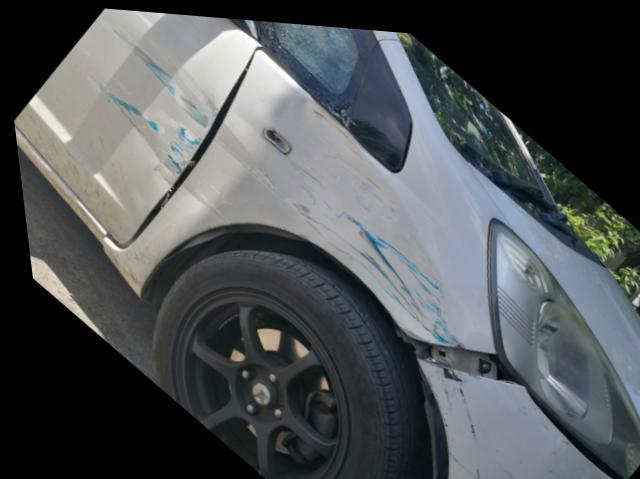dent: (179, 90, 444, 337)
dislocated part: (397, 329, 615, 479)
glass shatter: (254, 16, 377, 122)
scratch: (73, 9, 217, 184), (418, 356, 538, 479)
